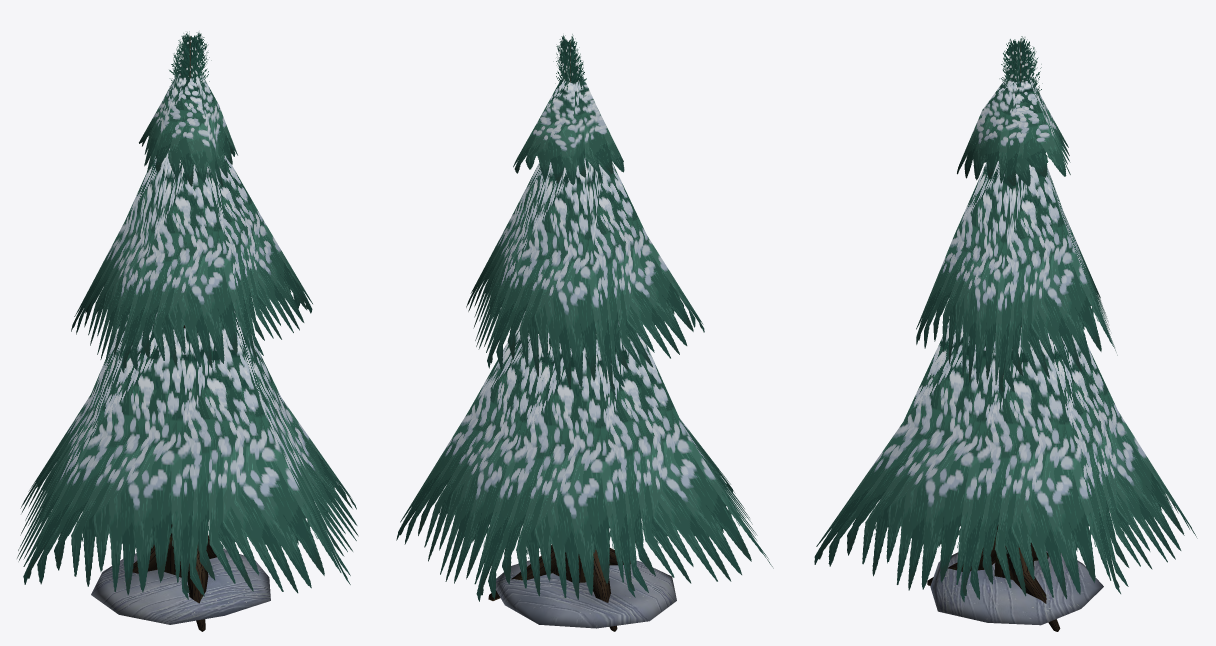
The model's file is rimeshore_pine_a_lod1.glb.
3 renders of one model, left to right at view 1: azimuth 30°, elevation 25°; view 2: azimuth 150°, elevation 25°; view 3: azimuth 270°, elevation 25°, orthographic.
Visible parts, largest first — view 1: rimeshore_pine_a_lod1; view 2: rimeshore_pine_a_lod1; view 3: rimeshore_pine_a_lod1.
Part boxes in pixels (left/top/right/bottom): rimeshore_pine_a_lod1: left=17, top=31, right=358, bottom=631; rimeshore_pine_a_lod1: left=396, top=34, right=773, bottom=631; rimeshore_pine_a_lod1: left=814, top=36, right=1197, bottom=631.
Bounding box in the file's own units: 3.07 × 5.06 × 3.16.
Materials: 3 (3 with a texture image).
